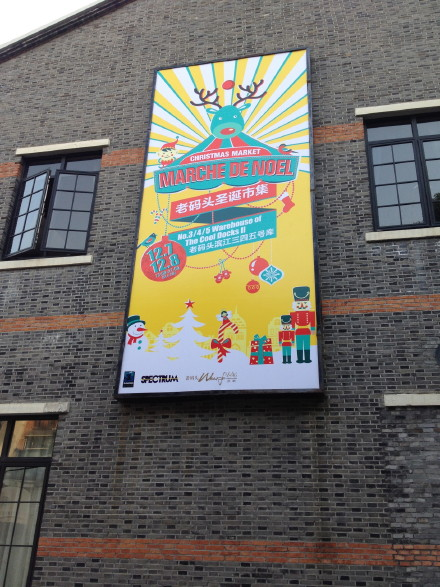bill: (118, 45, 325, 397)
